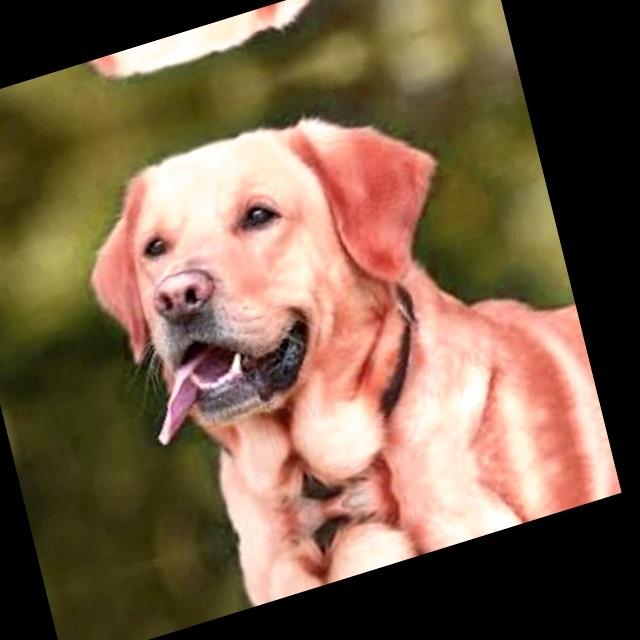dog: (58, 58, 484, 474), (36, 0, 400, 127)
